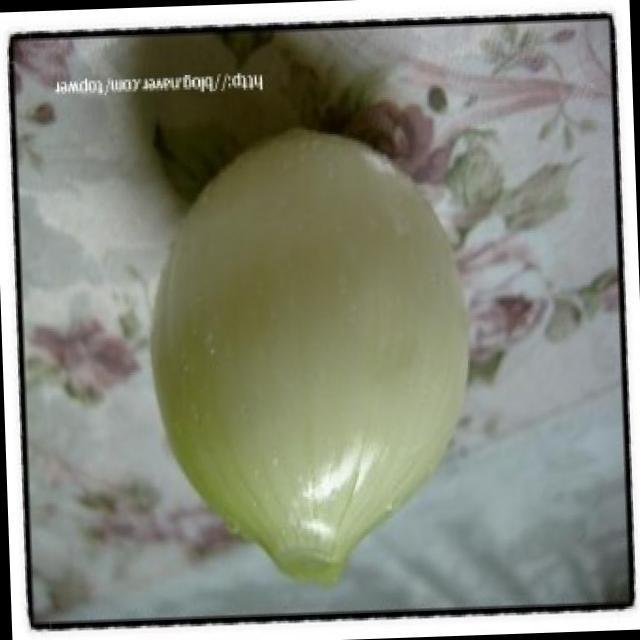Onion: (158, 131, 469, 583)
